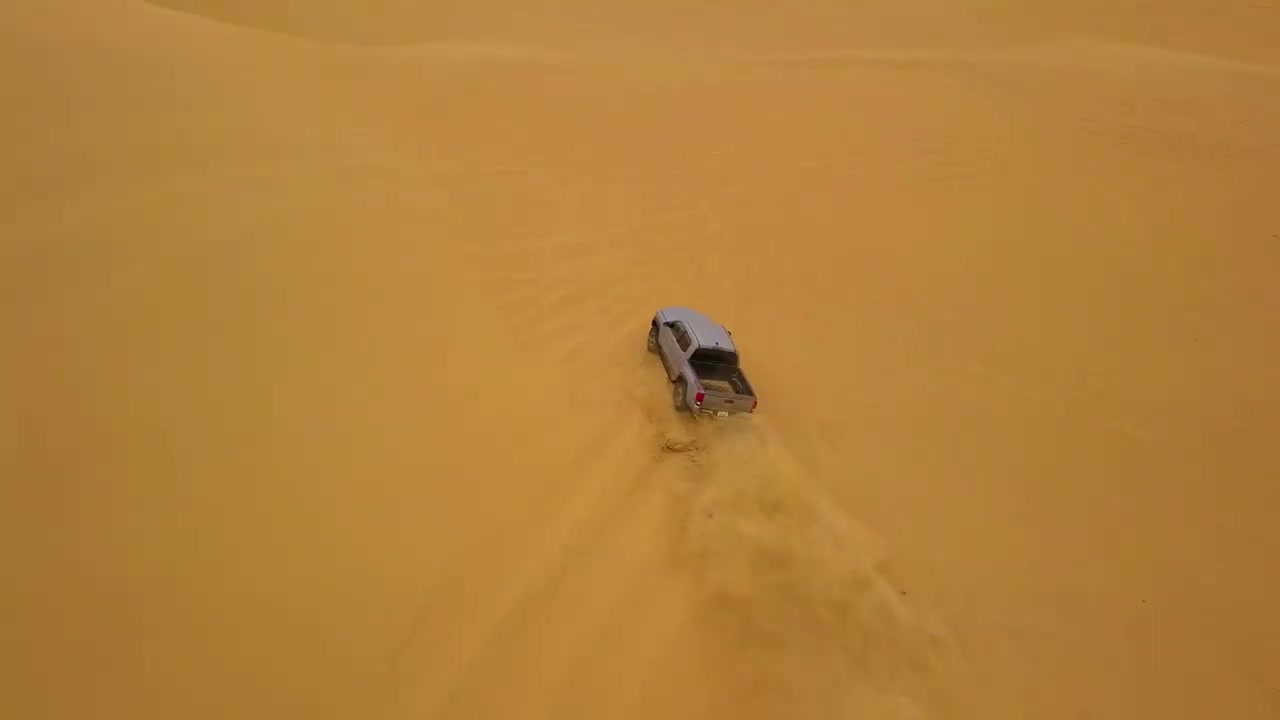vehicle_track: (419, 402, 684, 719)
